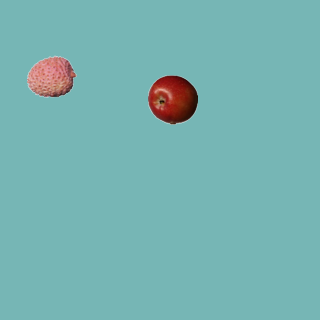Apple Braeburn: (147, 74, 197, 124)
Lychee: (26, 51, 76, 101)
